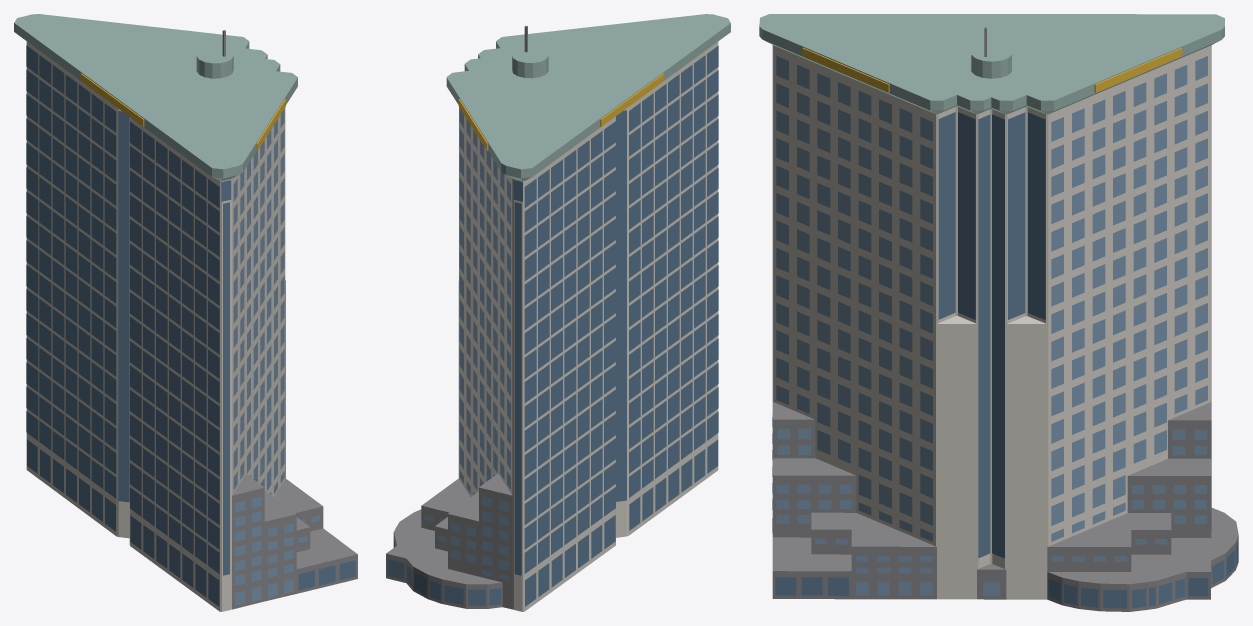
The model's file is slc-wells-fargo-center.glb.
3 views of the same model, side by side, from view 1: azimuth 30°, elevation 25°; view 2: azimuth 150°, elevation 25°; view 3: azimuth 270°, elevation 25° (orthographic). The views are drawn at different scales.
Parts seen in each view (by area): view 1: Wells Fargo Center; view 2: Wells Fargo Center; view 3: Wells Fargo Center.
Boxes of the visible parts, x1,y1,x2,y2 form: Wells Fargo Center: [14, 14, 357, 611]; Wells Fargo Center: [386, 14, 730, 611]; Wells Fargo Center: [759, 14, 1238, 611].
Size of the model in its own units: 47.49 by 129 by 102.
